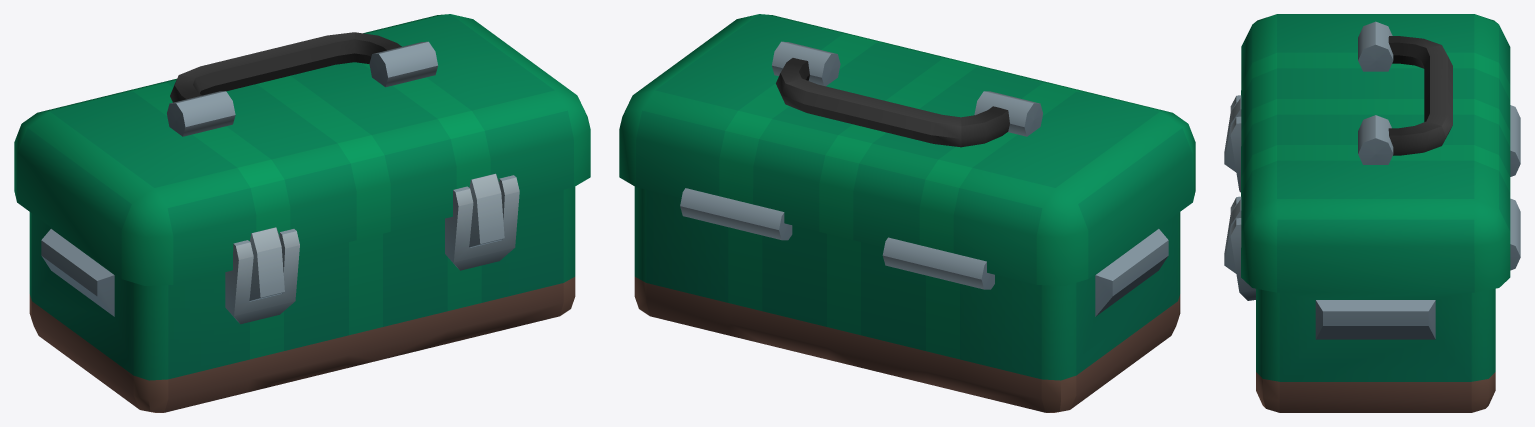
Rendered from prop_tacklebox.glb.
3 views of the same model, side by side, from view 1: azimuth 30°, elevation 25°; view 2: azimuth 150°, elevation 25°; view 3: azimuth 270°, elevation 25° (orthographic). The views are drawn at different scales.
Parts seen in each view (by area): view 1: fishing_tacklebox_lid, fishing_tacklebox; view 2: fishing_tacklebox_lid, fishing_tacklebox; view 3: fishing_tacklebox_lid, fishing_tacklebox.
Part boxes in pixels (bbox=[...]): fishing_tacklebox_lid: bbox=[14, 14, 590, 300]; fishing_tacklebox: bbox=[29, 175, 575, 412]; fishing_tacklebox_lid: bbox=[619, 14, 1195, 289]; fishing_tacklebox: bbox=[634, 187, 1180, 412]; fishing_tacklebox_lid: bbox=[1224, 14, 1520, 292]; fishing_tacklebox: bbox=[1230, 95, 1495, 412].
Bounding box in the file's own units: 0.9595 × 0.5012 × 0.5585.
1 material, 1 textured.
